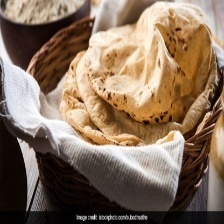roti: (62, 1, 217, 148)
